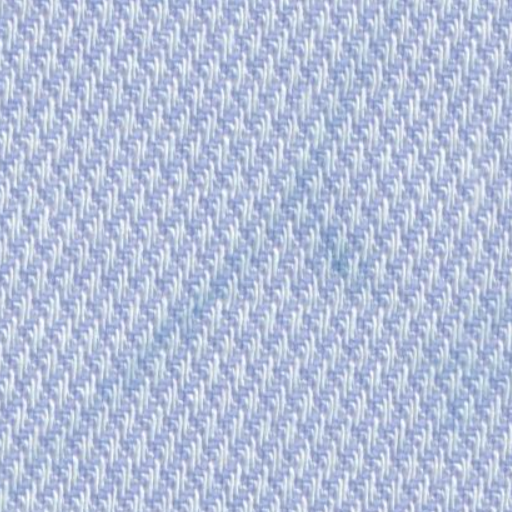WuZi: (212, 154, 380, 322), (108, 280, 224, 398), (420, 320, 502, 414)
